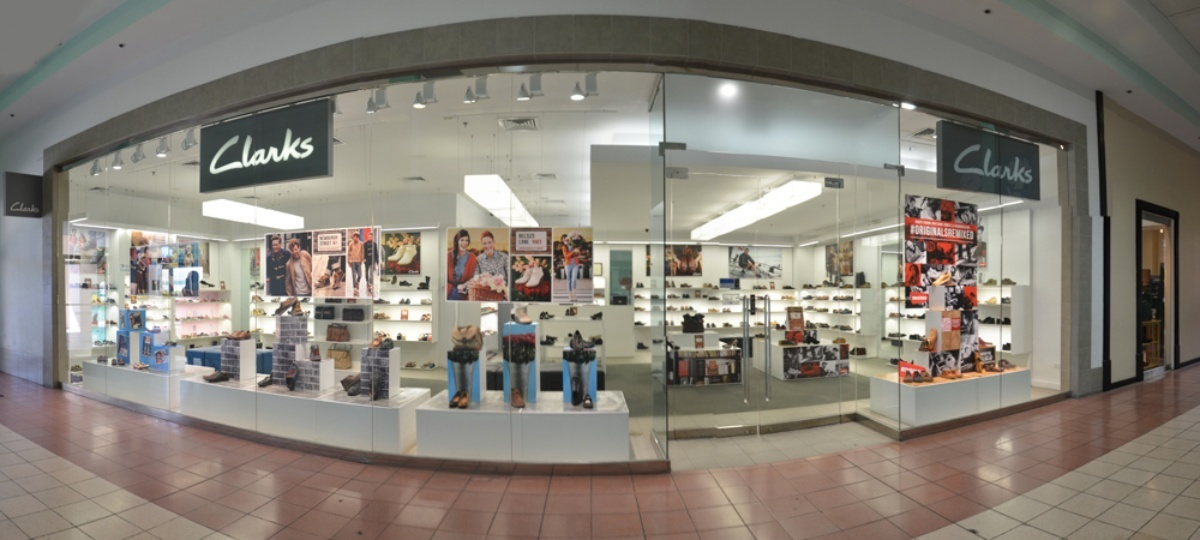text: (209, 125, 224, 177), (225, 125, 240, 177), (241, 125, 256, 177), (257, 125, 272, 177), (273, 125, 288, 177), (289, 125, 304, 177), (961, 139, 976, 184), (977, 139, 992, 184), (993, 139, 1008, 184), (1009, 139, 1024, 184), (305, 125, 315, 177), (1025, 139, 1035, 184), (953, 139, 960, 184), (913, 225, 928, 241), (929, 225, 944, 241), (945, 225, 960, 241), (961, 225, 975, 241), (17, 200, 32, 213), (321, 235, 336, 247), (929, 219, 944, 230), (945, 219, 960, 230), (915, 219, 928, 230), (529, 238, 544, 247), (961, 219, 973, 230), (913, 295, 929, 302), (8, 200, 16, 213), (517, 238, 528, 247), (33, 200, 40, 213), (515, 232, 528, 239), (529, 232, 538, 239), (337, 235, 340, 247), (910, 225, 912, 241), (910, 295, 912, 302), (319, 235, 320, 247)
